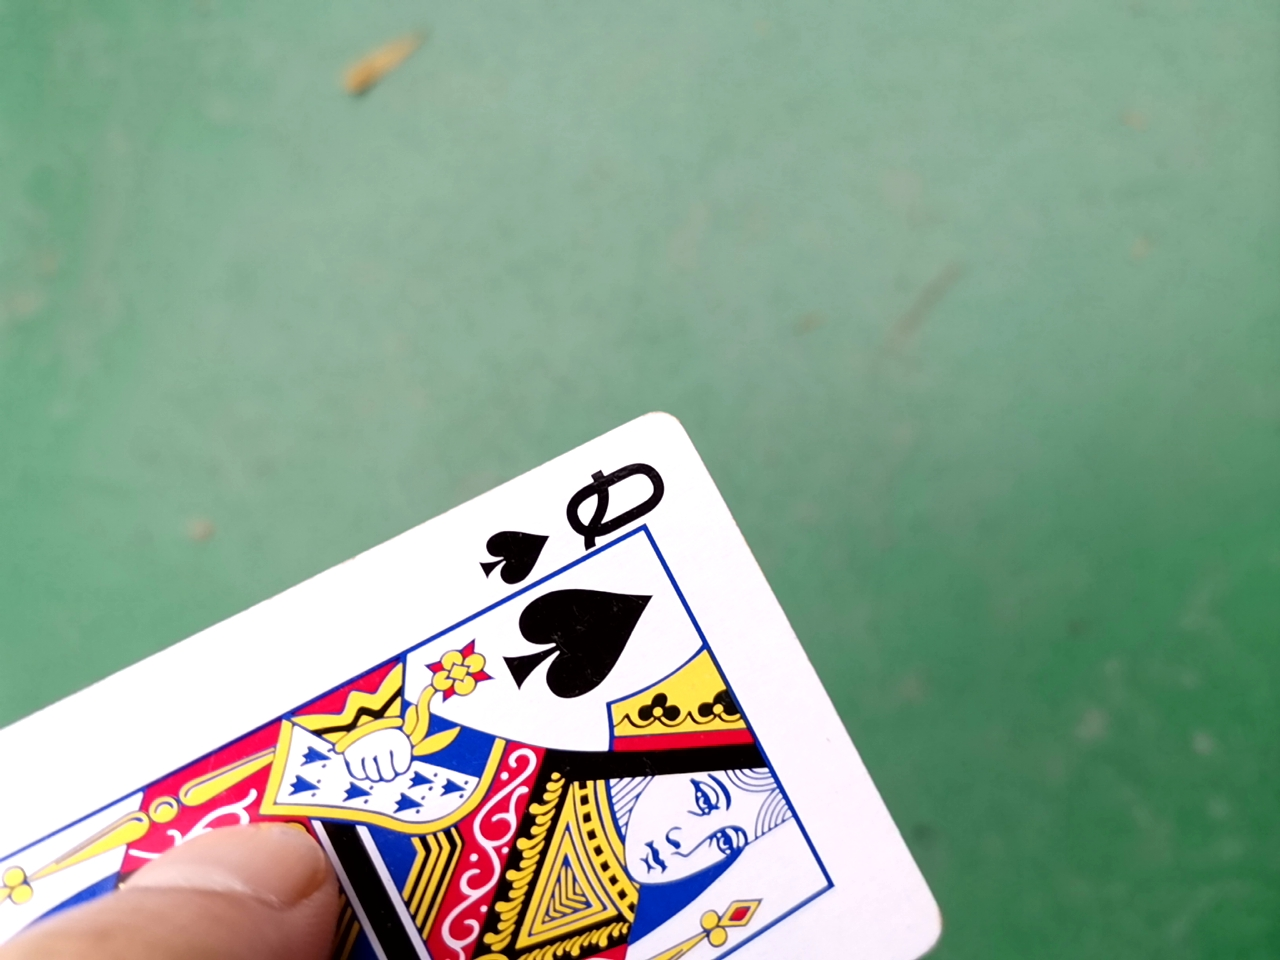ht q: (4, 413, 1012, 960)
